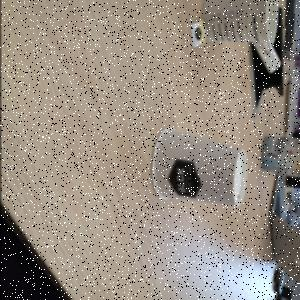Cup: (151, 128, 248, 208), (201, 1, 279, 46)
